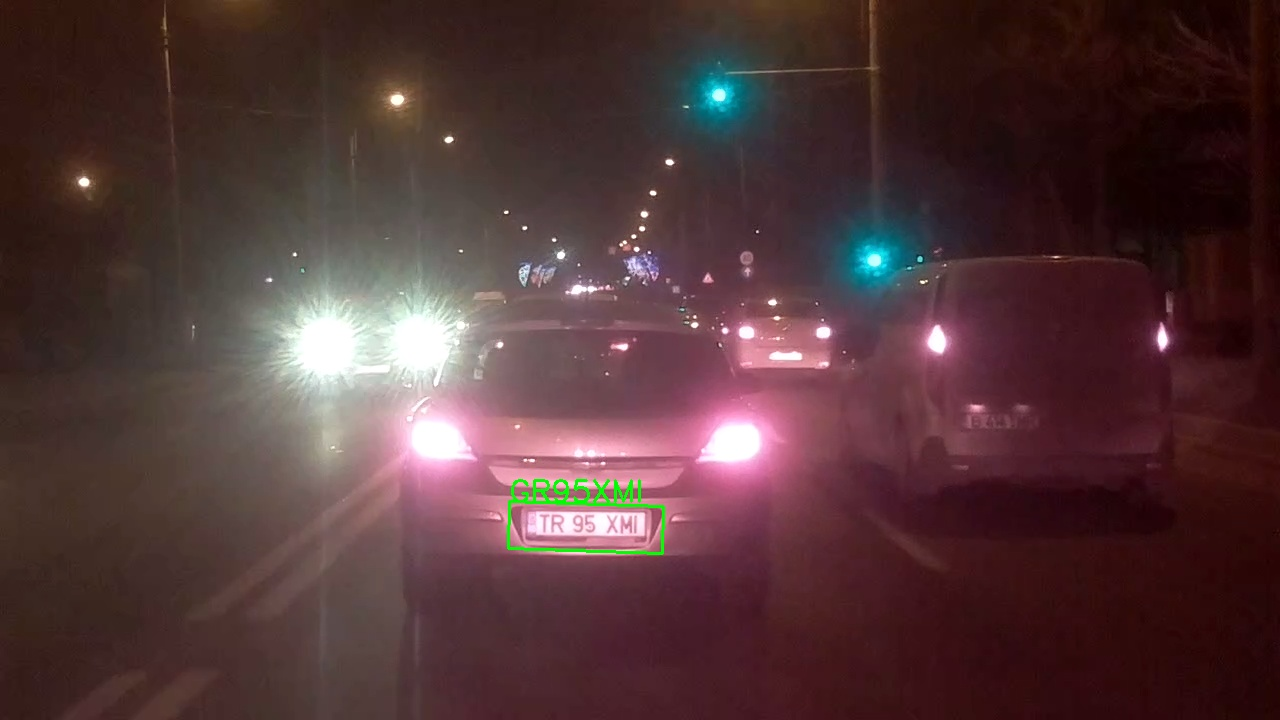license-plate: (507, 500, 665, 554)
